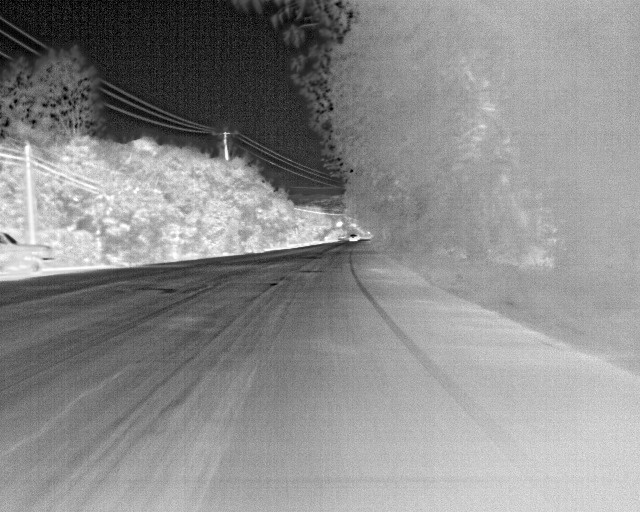car: (4, 231, 59, 273)
